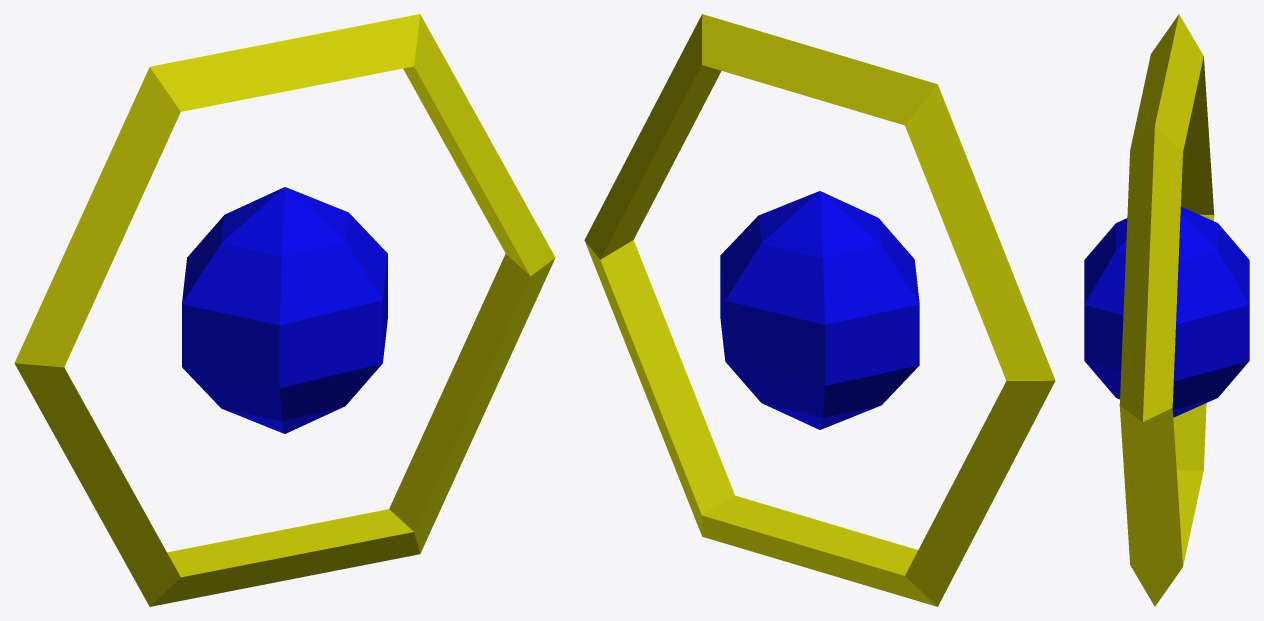
The model's file is Battery_small_tiku.fbx.
3 views of the same model, side by side, from view 1: azimuth 30°, elevation 25°; view 2: azimuth 150°, elevation 25°; view 3: azimuth 270°, elevation 25° (orthographic). The views are drawn at different scales.
Parts seen in each view (by area): view 1: ENERGY_r, ENERGY_Core; view 2: ENERGY_r, ENERGY_Core; view 3: ENERGY_r, ENERGY_Core.
Part boxes in pixels (x1,y1,x2,y2): ENERGY_r: (14,14,555,606); ENERGY_Core: (182,187,387,433); ENERGY_r: (584,14,1055,606); ENERGY_Core: (720,191,919,429); ENERGY_r: (1119,14,1214,606); ENERGY_Core: (1084,206,1249,417).
Bounding box in the file's own units: 598 × 600 × 187.
